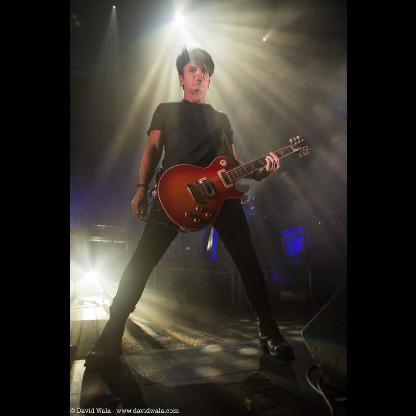guitar: (154, 134, 310, 232)
